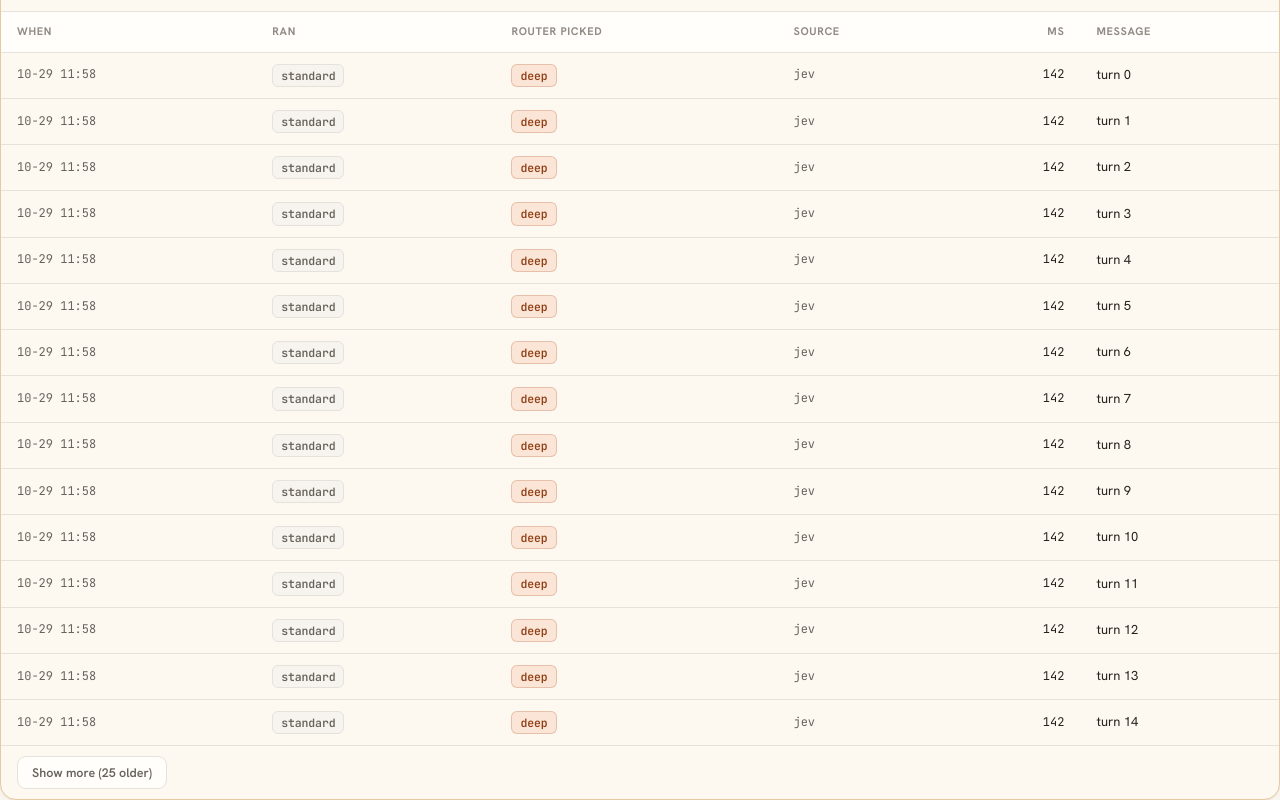
Scenario: RouterPanel › shows 15 turns and pages through the rest on demand
This screenshot has width=1280, height=800.
(page scrolled)
expect the text "turn 14" is shown: met, box top-left (1080, 700), bottom-right (1279, 745)
expect the text "turn 15" is not shown: met
Click the button "Show more (25 older)" at [92, 773], box top-left (17, 756), bottom-right (167, 789)
(page scrolled)
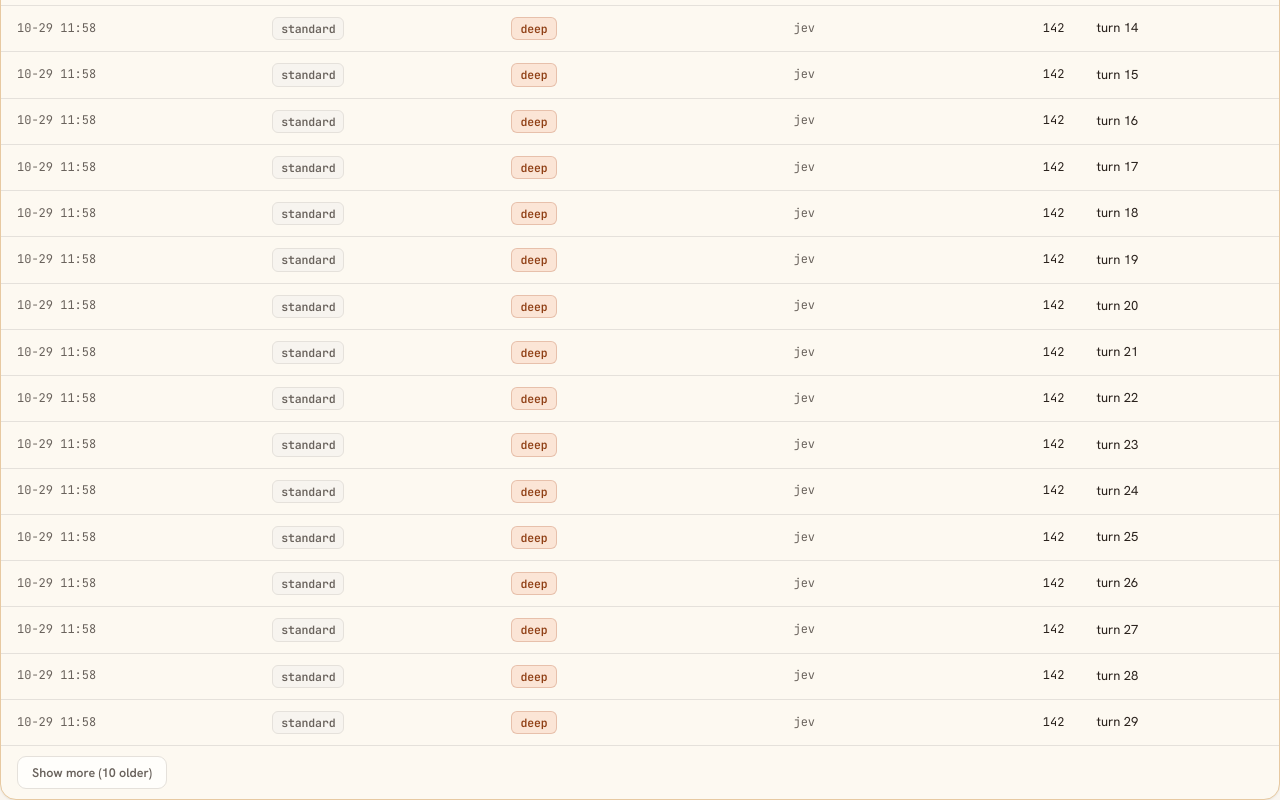
expect the text "turn 29" is shown: met, box top-left (1080, 700), bottom-right (1279, 745)
Click the button "Show more (10 older)" at [92, 772], box top-left (17, 756), bottom-right (167, 789)
(page scrolled)
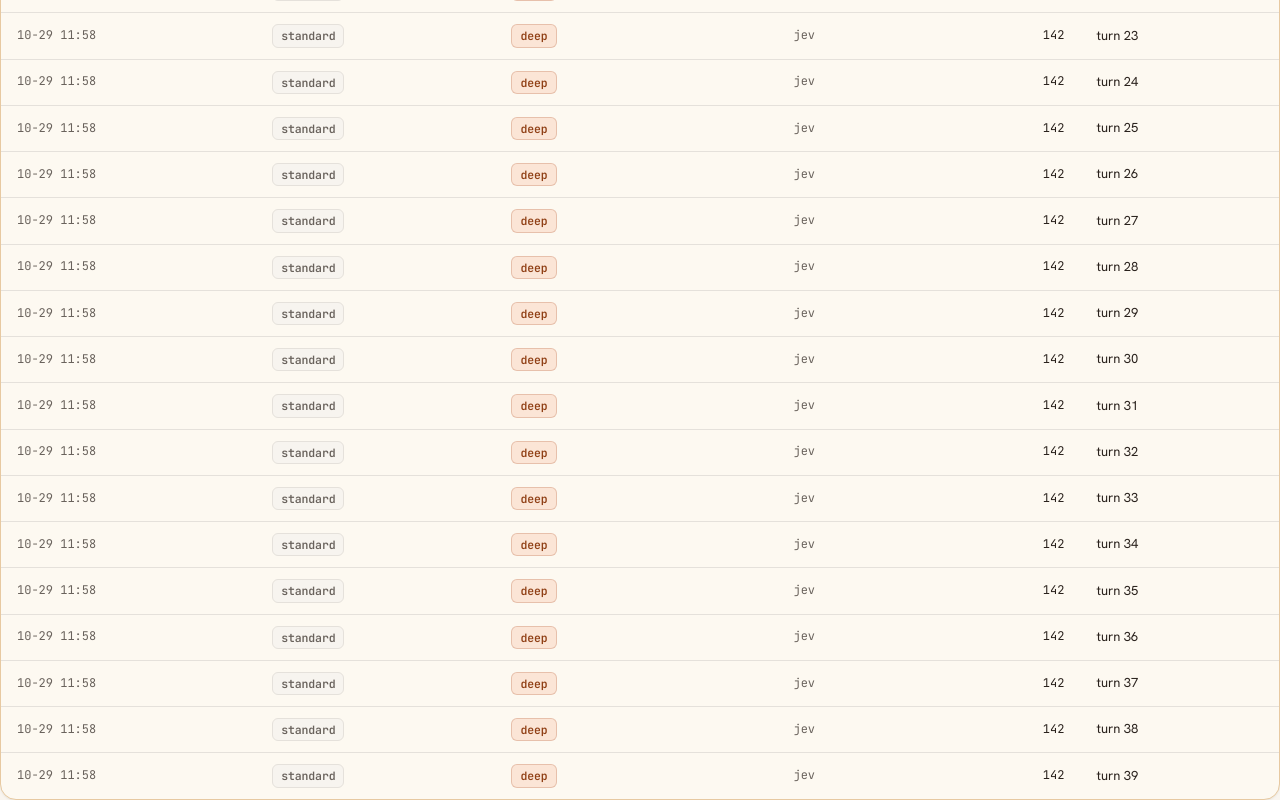
expect the text "turn 39" is shown: met, box top-left (1080, 753), bottom-right (1279, 798)
expect the button "Show more" is gone: met
